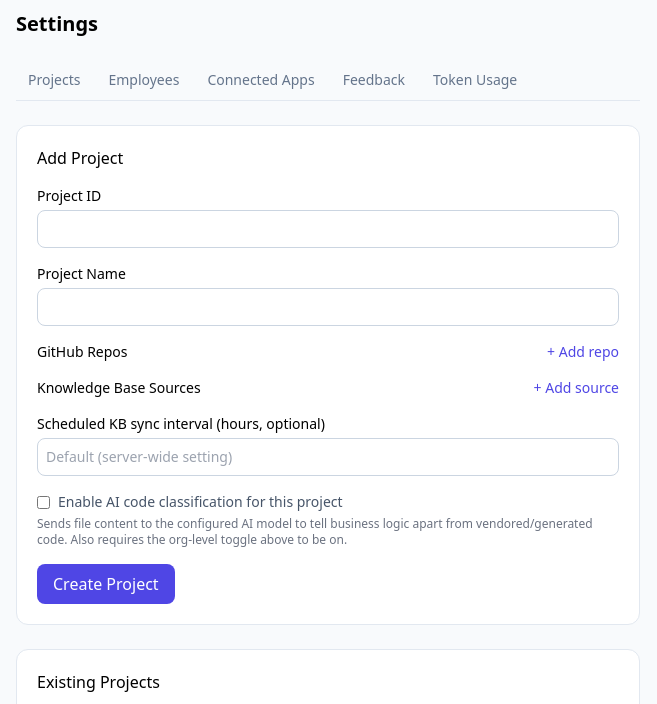
Test case: SettingsProjectsPage › shows inline errors for both fields and does not submit when id and name are empty
Click the button "Create Project" at x=106, y=584, box x1=37 y1=564 x2=175 y2=604
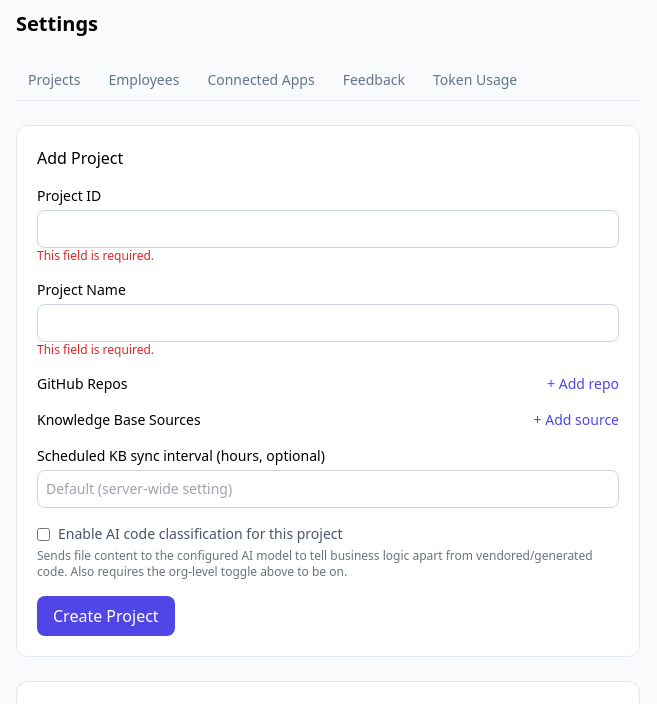
Now the text "This field is required." is shown 2 times, box x1=37 y1=247 x2=154 y2=264; x1=37 y1=341 x2=154 y2=358
